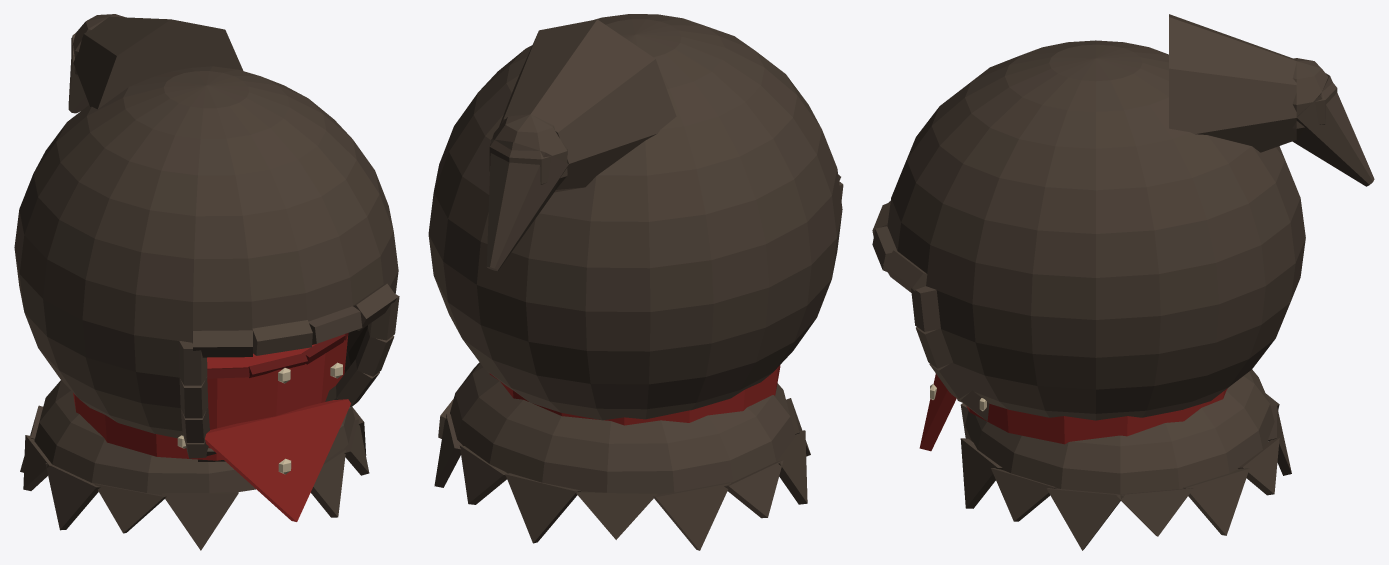
Rendered from brigand_hood.glb.
3 renders of one model, left to right at view 1: azimuth 30°, elevation 25°; view 2: azimuth 150°, elevation 25°; view 3: azimuth 270°, elevation 25°, orthographic. The views are drawn at different scales.
Parts seen in each view (by area): view 1: brigand_hood; view 2: brigand_hood; view 3: brigand_hood.
Boxes of the visible parts, left/top/right/bottom form: brigand_hood: left=14, top=14, right=399, bottom=550; brigand_hood: left=428, top=14, right=843, bottom=550; brigand_hood: left=872, top=14, right=1374, bottom=550.
Bounding box in the file's own units: 1.28 × 1.66 × 1.65.
